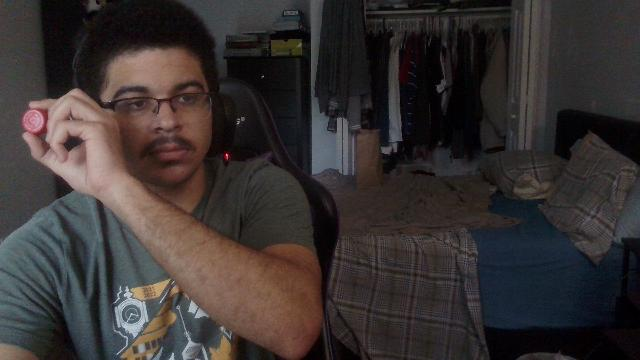cap: (22, 109, 48, 136)
